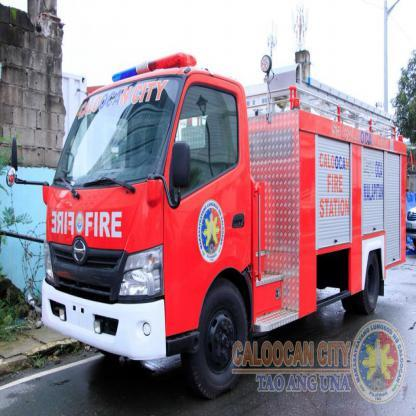fire-truck: (29, 32, 416, 416)
